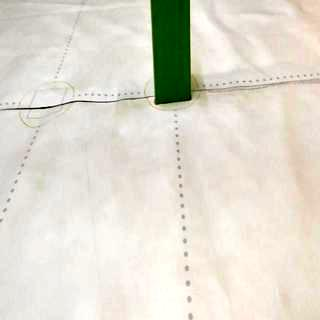greenbox: (146, 0, 200, 104)
